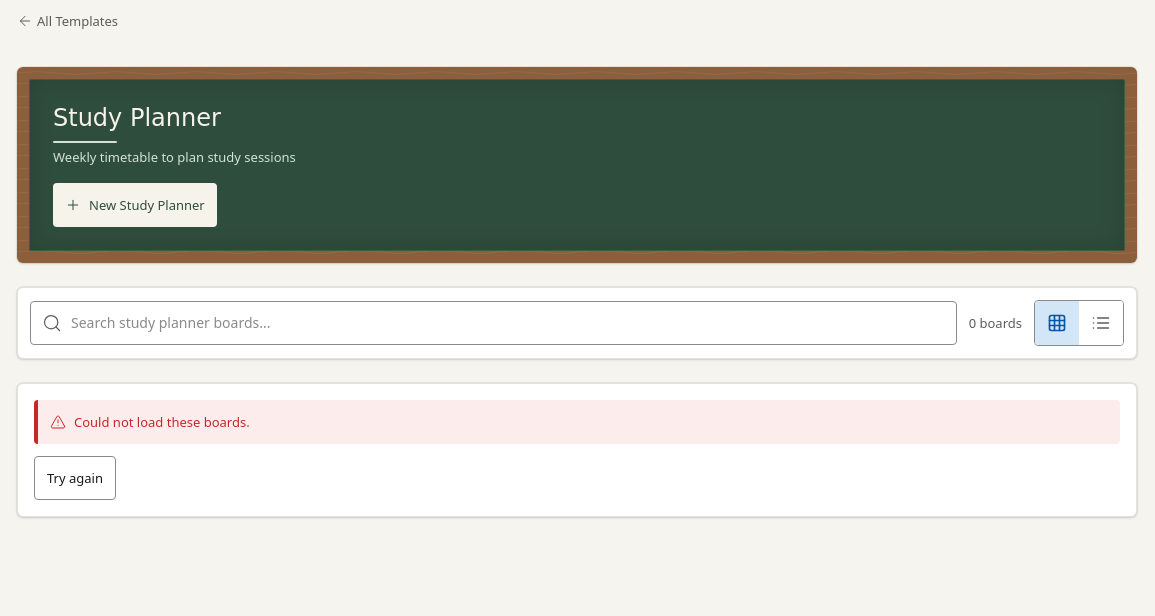
Test case: TemplateBoardsPage › a failed load shows an alert with a retry control
The image size is (1155, 616).
Check: the message reads "Could not load these boards.", box [74, 413, 250, 431]
Click the button "Try again".
click(75, 478)  # box [34, 456, 116, 500]
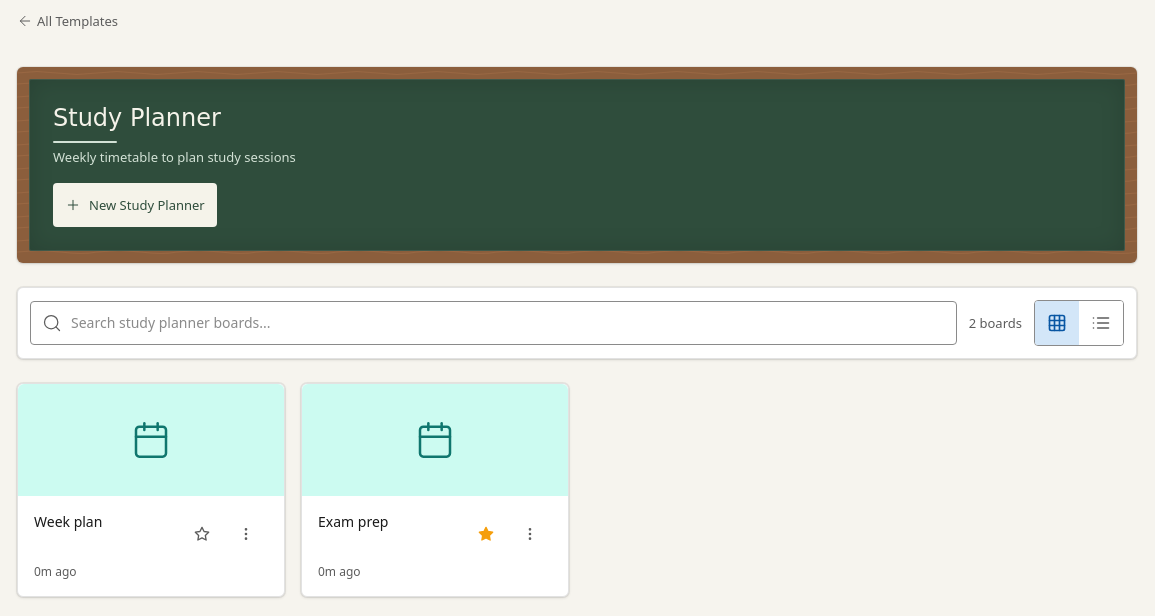
Check: the heading "Week plan" is shown, box [34, 512, 102, 532]
